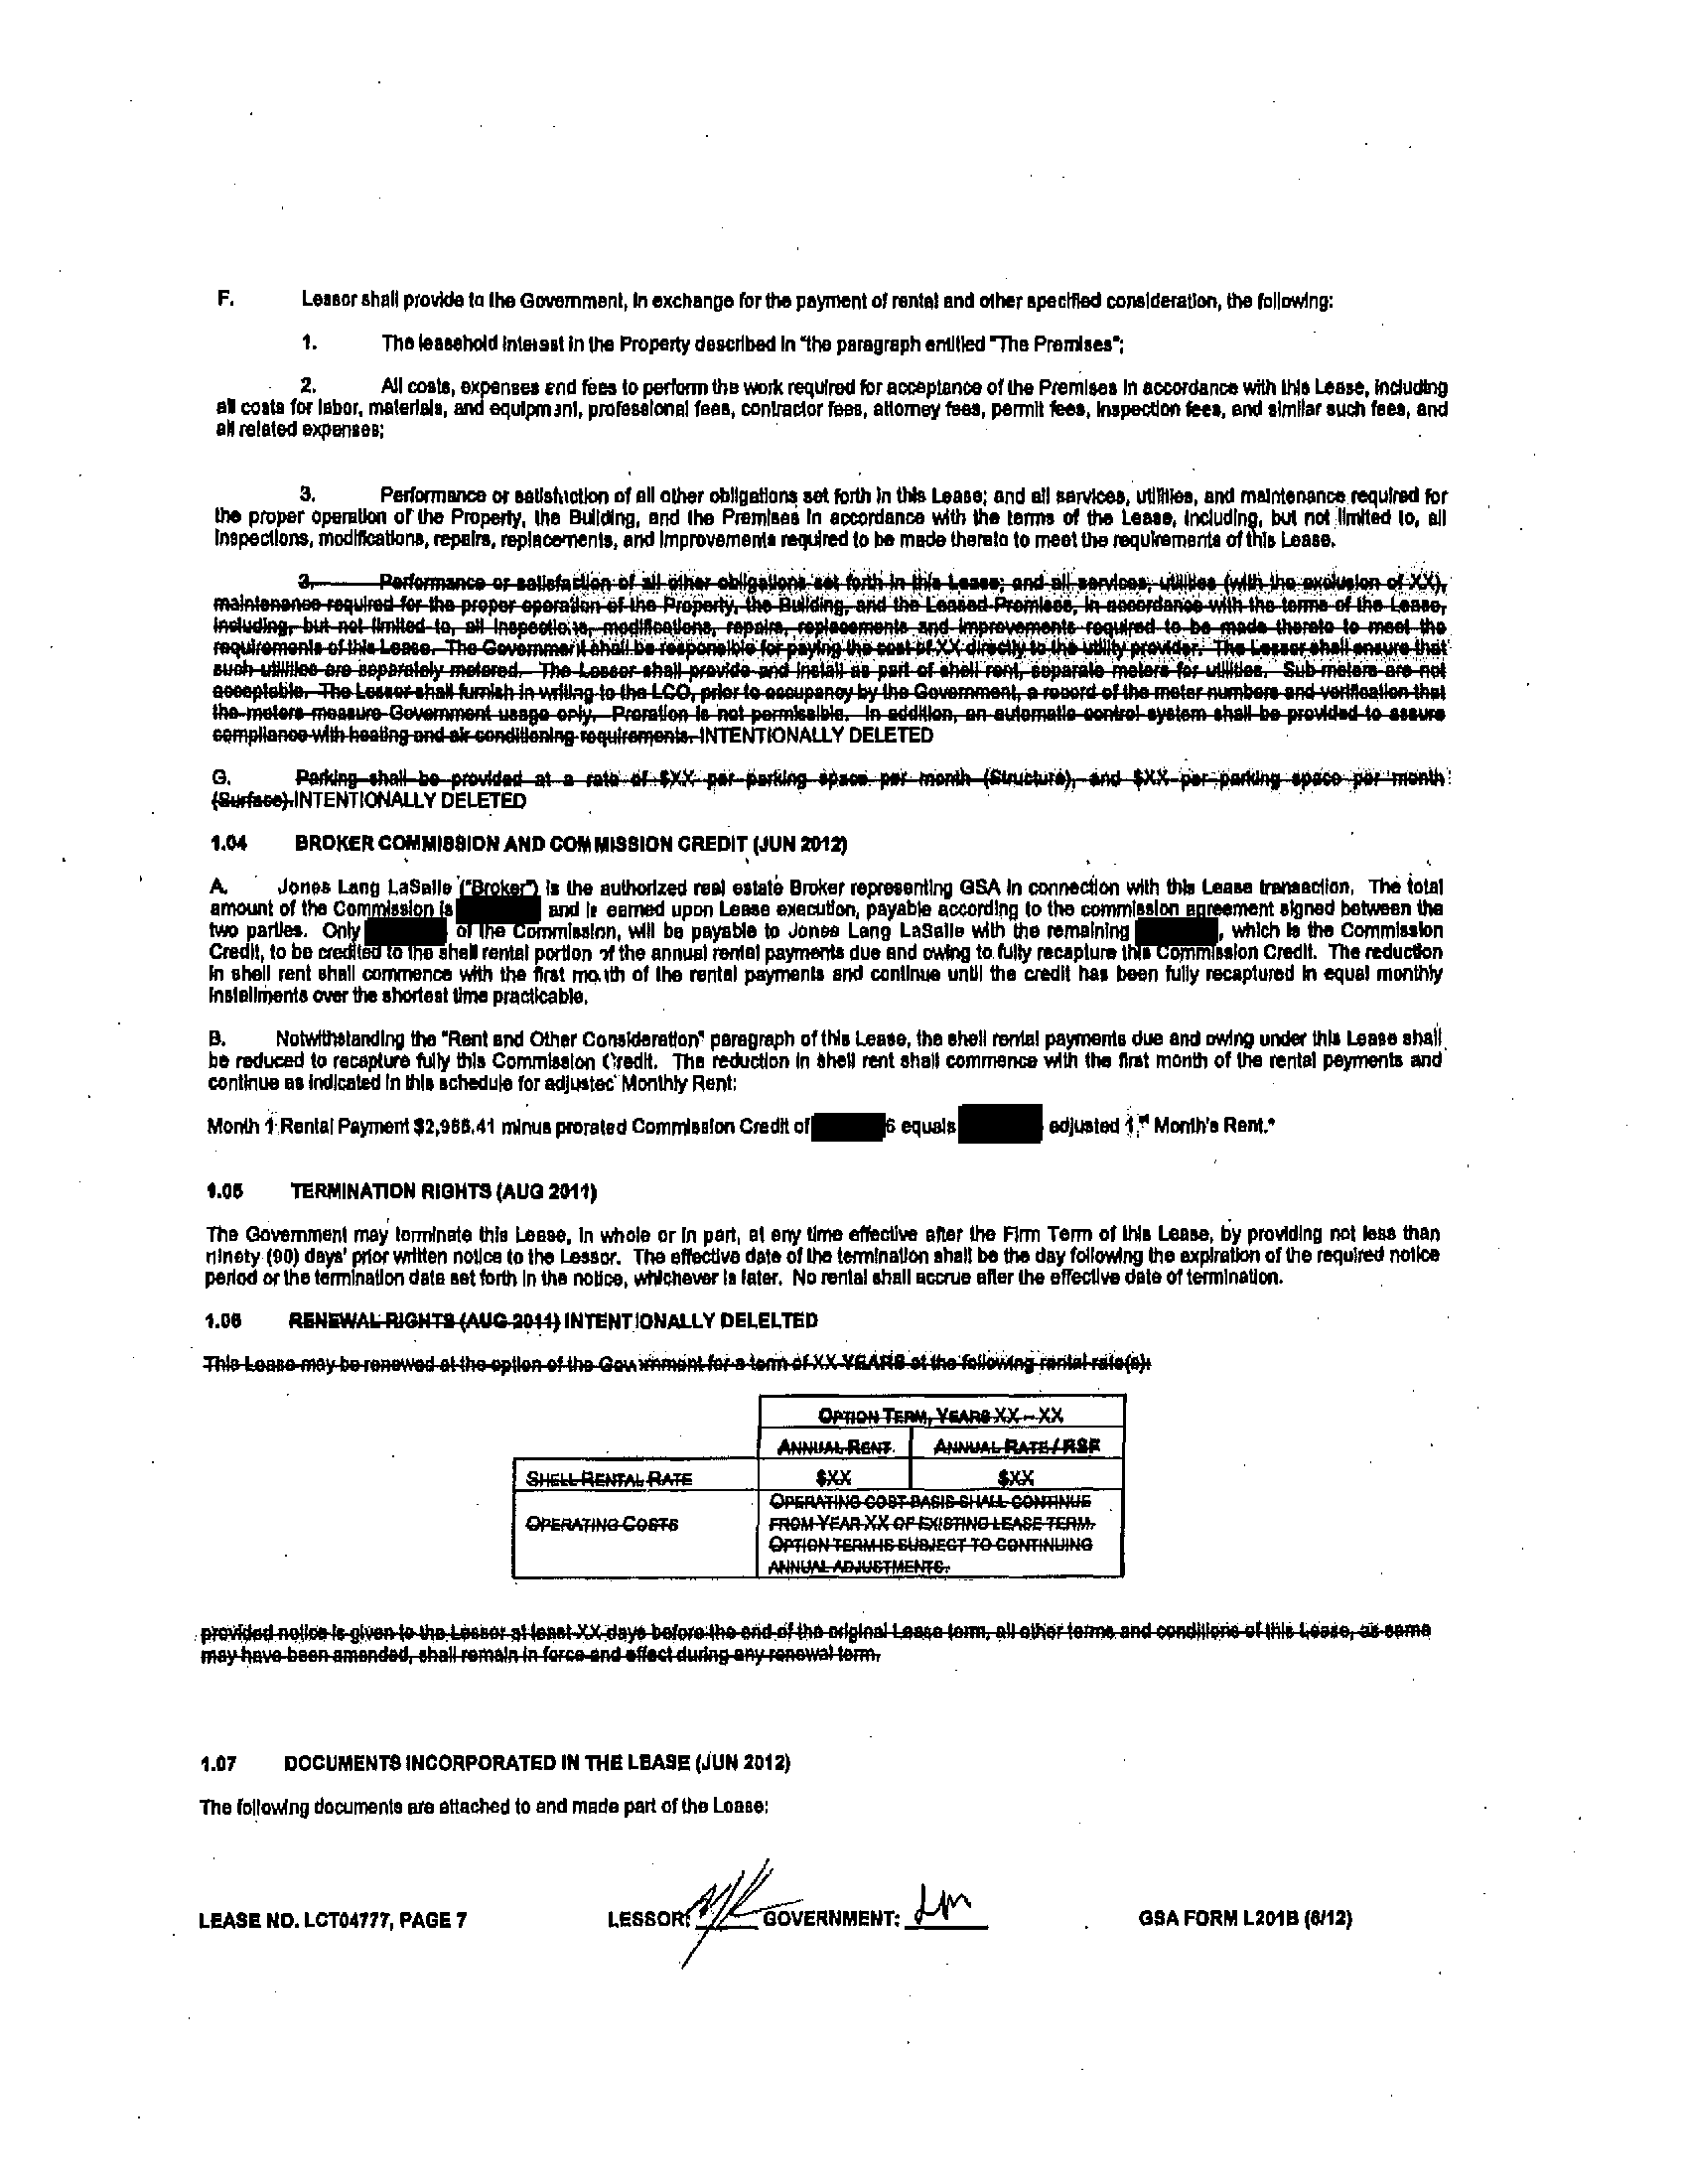handwritten: (688, 1849, 778, 1959), (903, 1849, 981, 1939)
